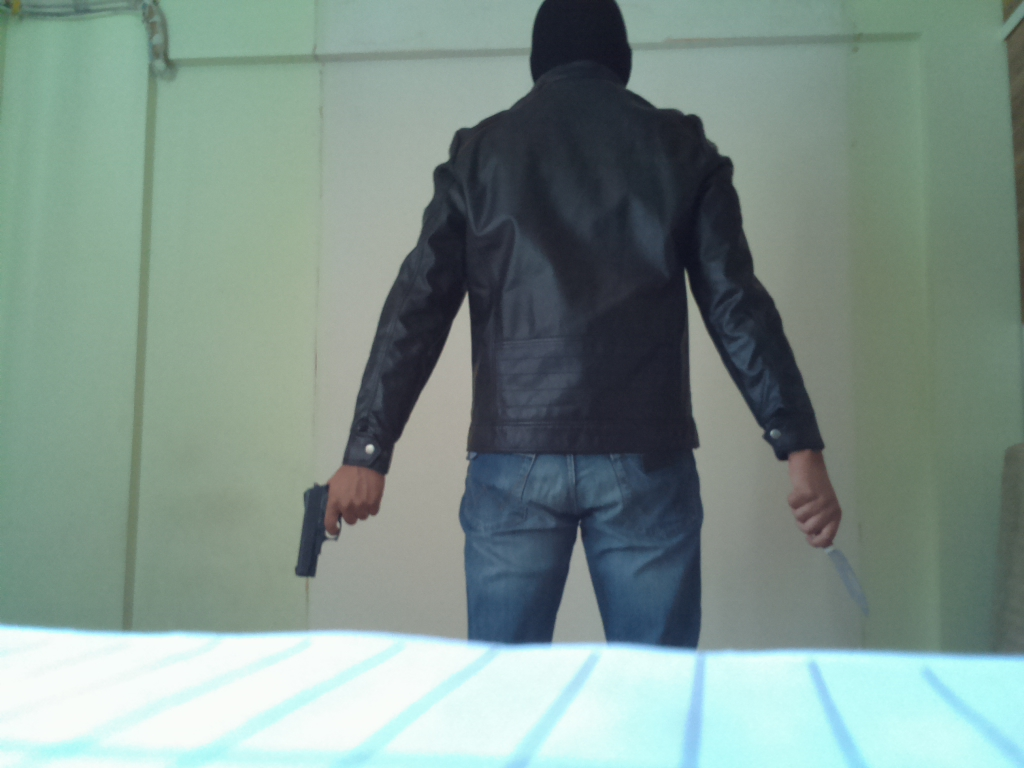gun: (297, 479, 365, 584)
knife: (800, 513, 873, 614)
